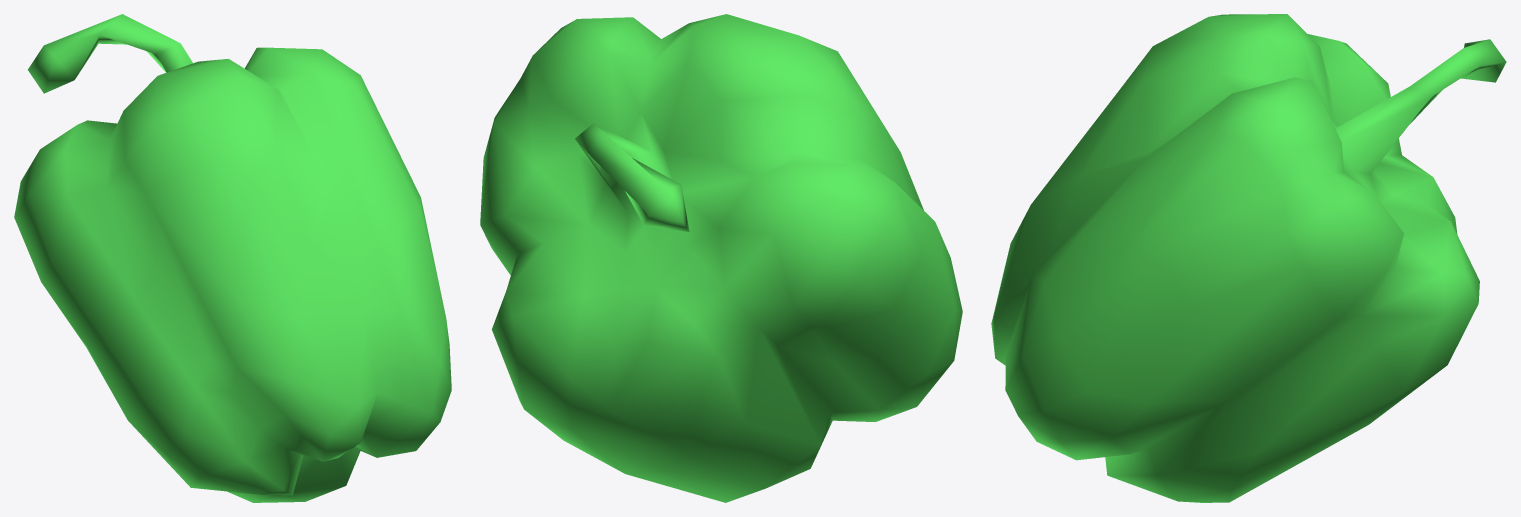
File: SM_town_paprika.fbx
3 views of the same model, side by side, from view 1: azimuth 30°, elevation 25°; view 2: azimuth 150°, elevation 25°; view 3: azimuth 270°, elevation 25° (orthographic). The views are drawn at different scales.
Parts seen in each view (by area): view 1: paprikaka_low; view 2: paprikaka_low; view 3: paprikaka_low.
Part boxes in pixels (x1,y1,x2,y2): paprikaka_low: (14, 14, 451, 502); paprikaka_low: (480, 14, 962, 502); paprikaka_low: (991, 14, 1506, 502).
Size of the model in its own units: 16.8 by 19.36 by 20.18.
